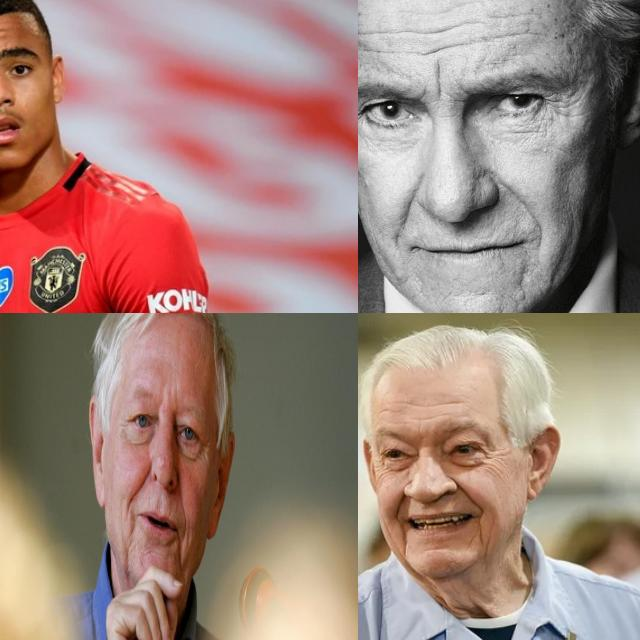chin: (143, 541, 165, 560)
crows_feet: (542, 88, 576, 124), (482, 444, 500, 476), (372, 453, 386, 477), (198, 437, 208, 462), (358, 101, 365, 135), (118, 414, 131, 431)
forehead: (488, 10, 548, 46), (417, 18, 465, 56), (358, 23, 411, 55), (431, 394, 465, 411), (407, 409, 441, 426), (390, 397, 420, 411)
frown_line: (426, 62, 448, 98), (156, 395, 164, 418), (172, 384, 178, 408)
gummy_smile: (499, 170, 536, 222), (395, 178, 423, 228), (452, 478, 478, 510), (130, 462, 150, 502), (174, 467, 187, 518), (388, 490, 407, 520)
sad_smile: (174, 535, 186, 581), (396, 526, 412, 556), (472, 517, 486, 547), (127, 518, 138, 551)
